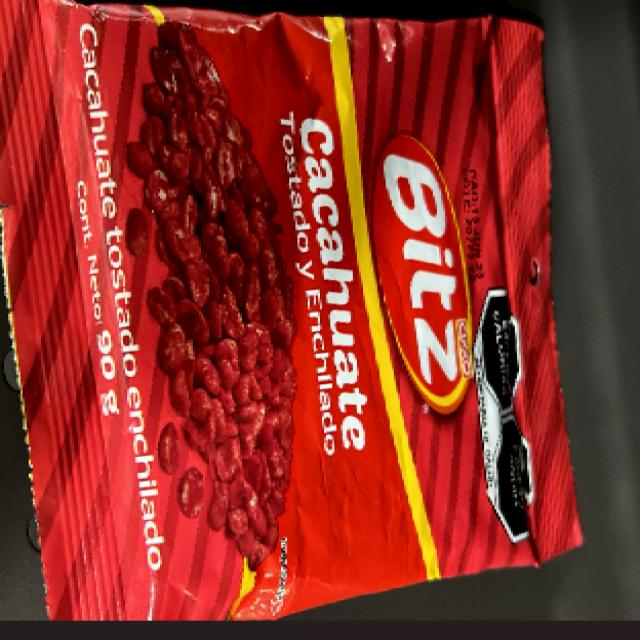bitzEnchilado90: (12, 4, 574, 568)
